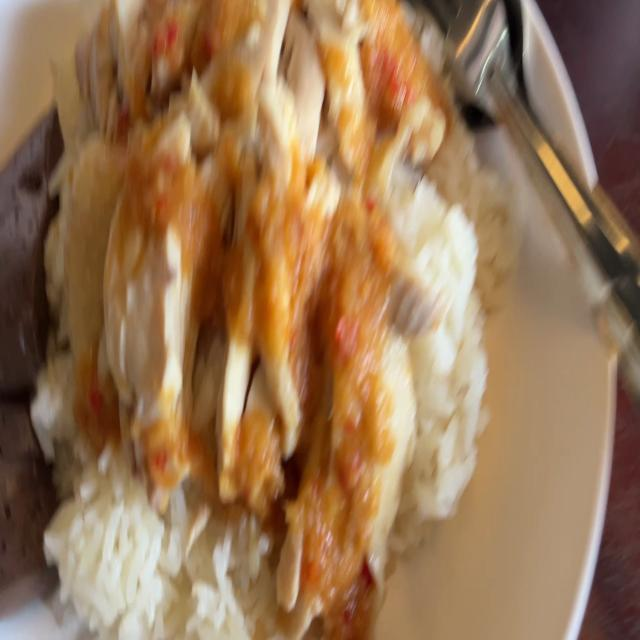boiled_chicken: (79, 3, 421, 540)
boiled_chicken_blood_jelly: (0, 96, 55, 403), (0, 386, 50, 595)
chicken_rice: (0, 4, 510, 640)
